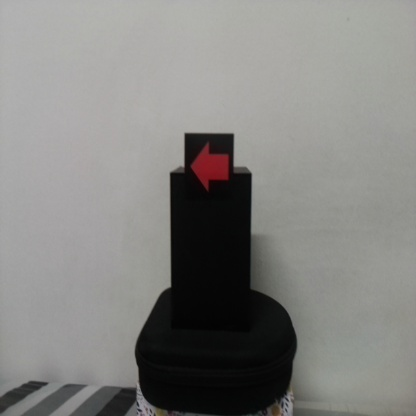id_4: (185, 134, 234, 199)
